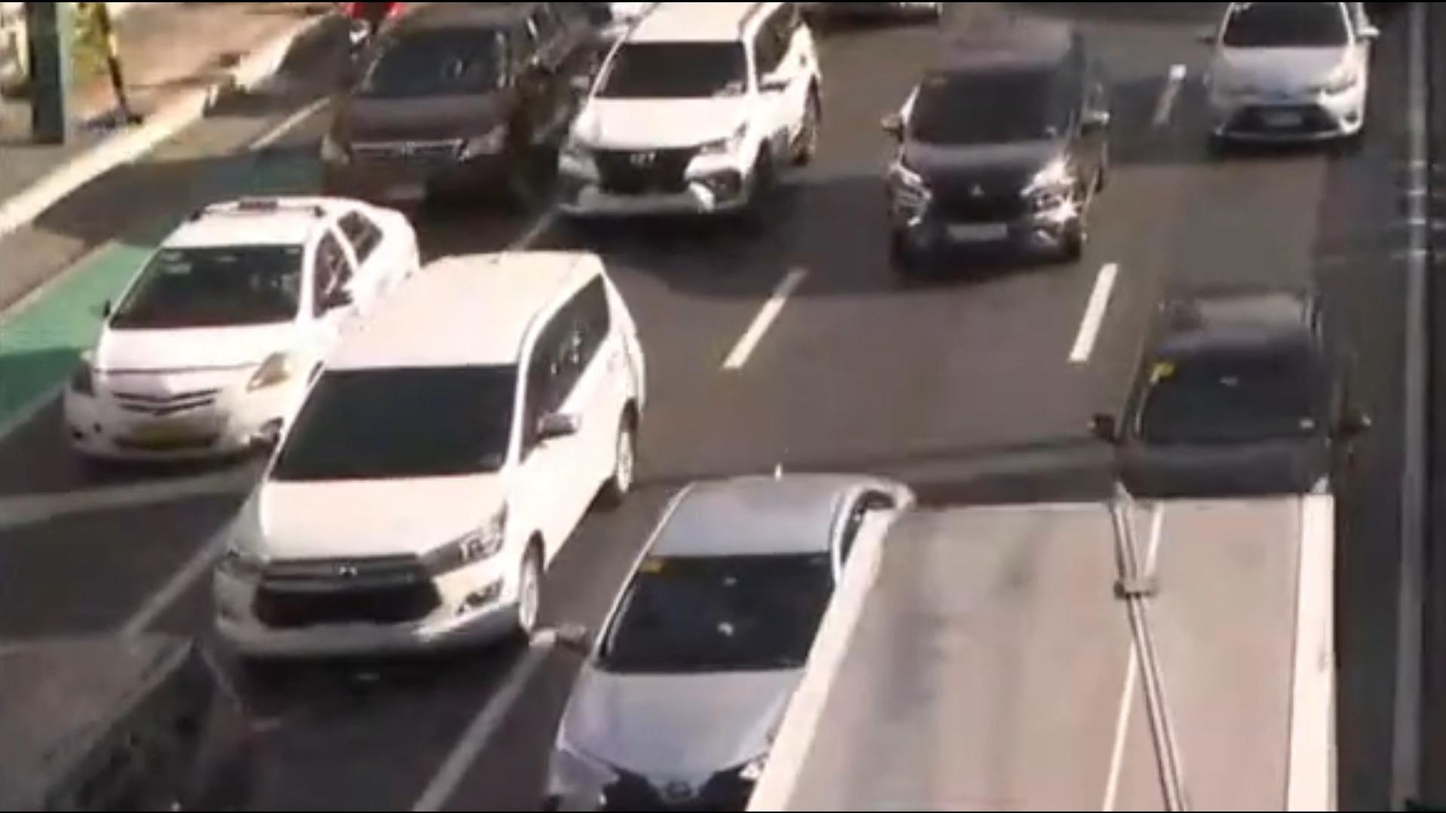Motorcycle: (326, 0, 397, 74)
SUV: (201, 202, 682, 684), (537, 0, 846, 253), (862, 27, 1143, 294), (290, 0, 608, 211)
Sedan: (16, 168, 435, 508), (561, 458, 935, 813), (1090, 254, 1390, 518), (1202, 0, 1396, 155)
Truck: (738, 428, 1353, 813)
